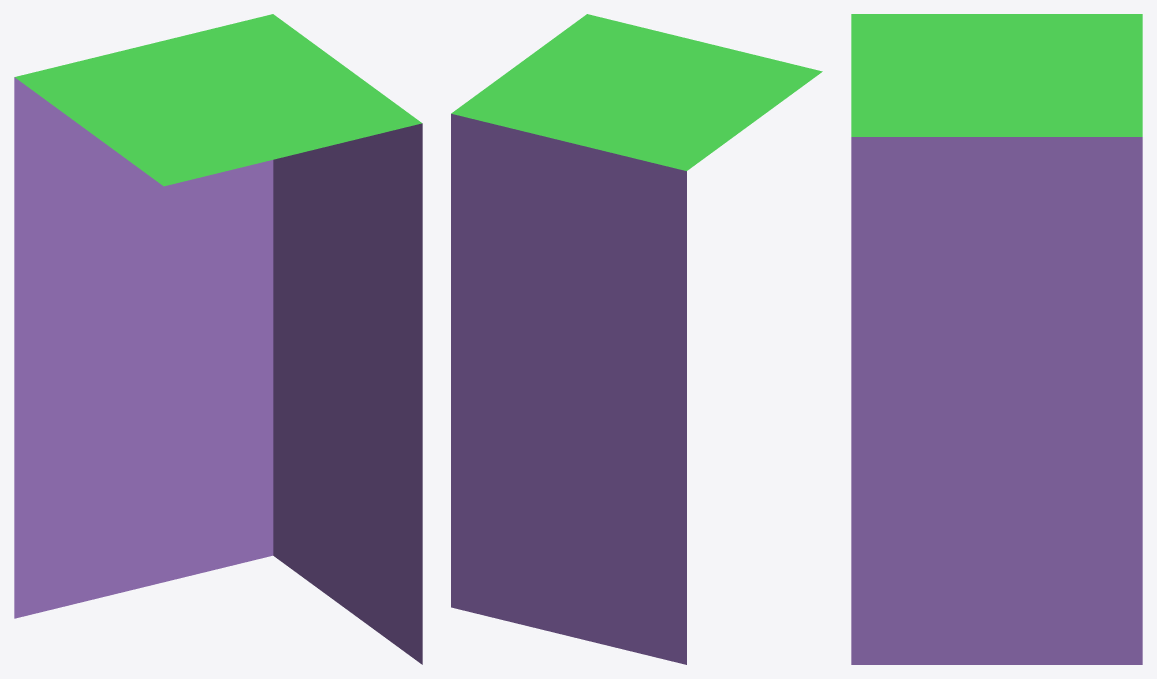
The model's file is RoomCorner_6.fbx.
The picture shows the model from 3 angles, left to right: view 1: azimuth 30°, elevation 25°; view 2: azimuth 150°, elevation 25°; view 3: azimuth 270°, elevation 25°; orthographic projection. The views are drawn at different scales.
Visible parts, largest first — view 1: RoomCorner_6; view 2: RoomCorner_6; view 3: RoomCorner_6.
Part boxes in pixels (x1=…): RoomCorner_6: x1=14, y1=14, x2=422, y2=664; RoomCorner_6: x1=451, y1=14, x2=822, y2=664; RoomCorner_6: x1=851, y1=14, x2=1142, y2=664.
Size of the model in its own units: 400 by 800 by 400.
